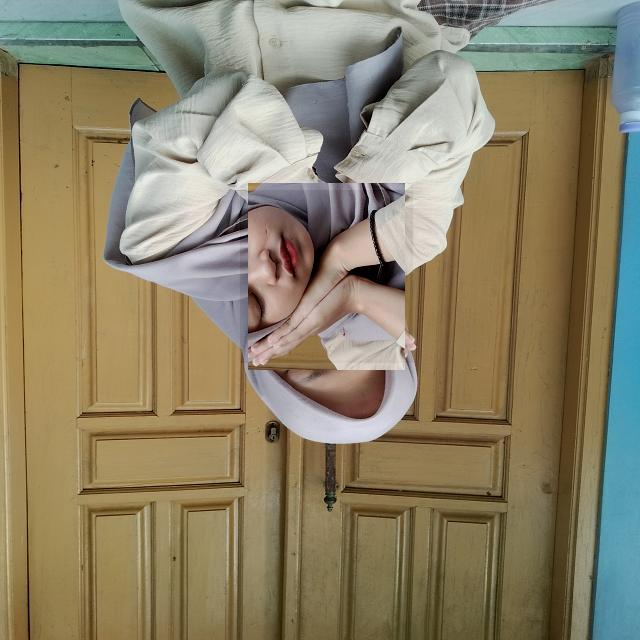tidur: (240, 190, 413, 363)
